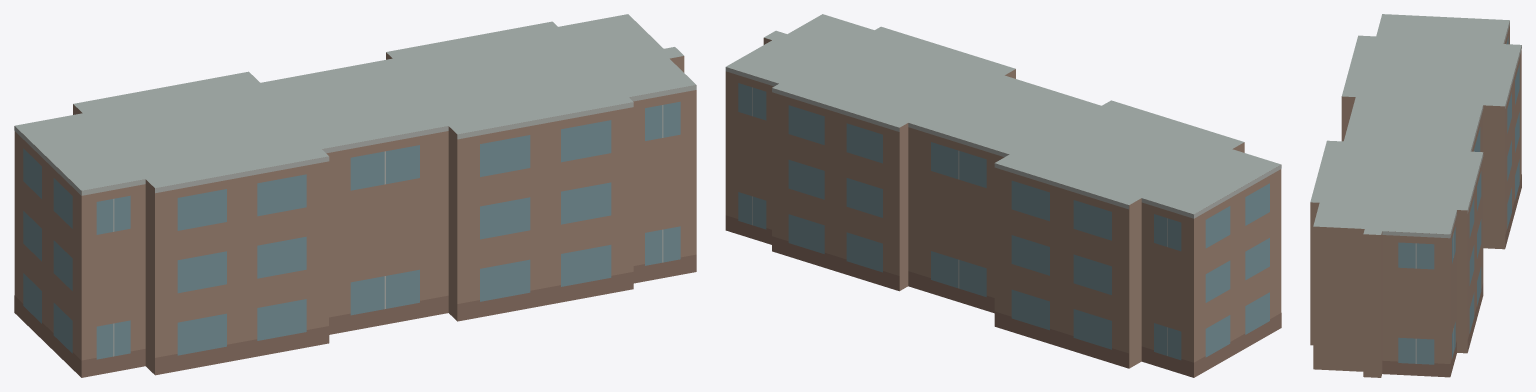
The model's file is survey-upis-32976840.glb.
3 views of the same model, side by side, from view 1: azimuth 30°, elevation 25°; view 2: azimuth 150°, elevation 25°; view 3: azimuth 270°, elevation 25° (orthographic). The views are drawn at different scales.
Parts seen in each view (by area): view 1: survey-upis-32976840.tmp; view 2: survey-upis-32976840.tmp; view 3: survey-upis-32976840.tmp.
Part boxes in pixels (x1,y1,x2,y2): survey-upis-32976840.tmp: (14, 14, 696, 377); survey-upis-32976840.tmp: (725, 14, 1281, 377); survey-upis-32976840.tmp: (1310, 14, 1521, 377).
Bounding box in the file's own units: 30.36 × 9.15 × 12.28.
